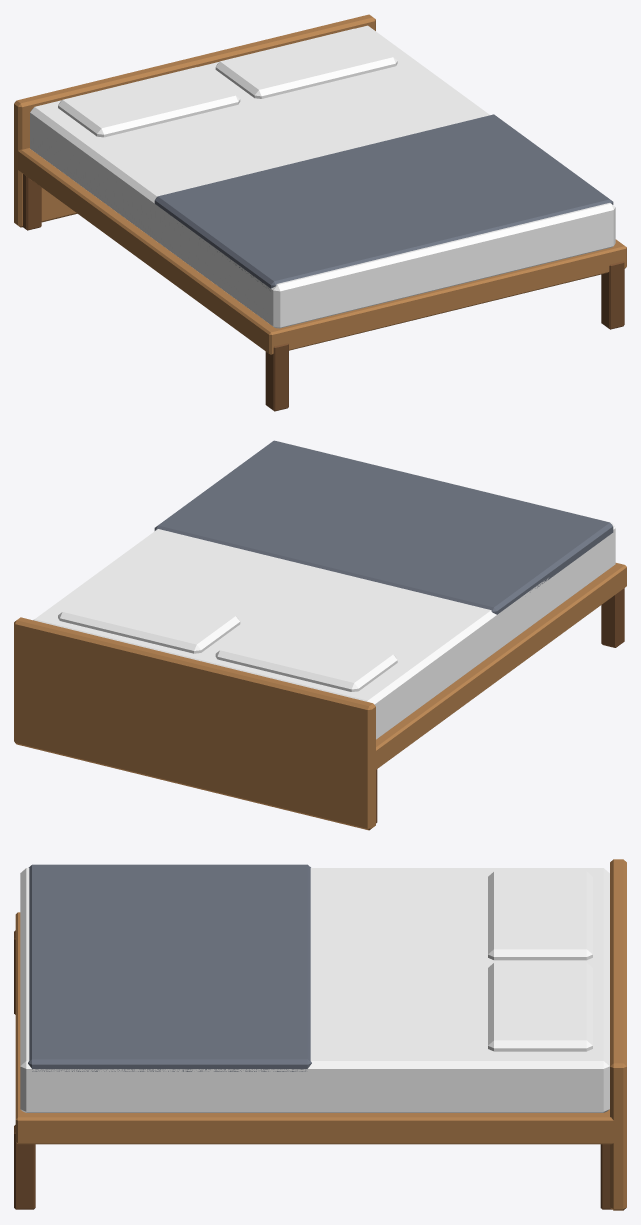
The model's file is bed-double-1600.glb.
3 views of the same model, one above another, from view 1: azimuth 30°, elevation 25°; view 2: azimuth 150°, elevation 25°; view 3: azimuth 270°, elevation 25° (orthographic). The views are drawn at different scales.
Visible parts, largest first — view 1: bed-double-1600.tint, bed-double-1600.fabric, bed-double-1600.wood, bed-double-1600.woodDark; view 2: bed-double-1600.wood, bed-double-1600.tint, bed-double-1600.fabric, bed-double-1600.woodDark; view 3: bed-double-1600.tint, bed-double-1600.fabric, bed-double-1600.wood, bed-double-1600.woodDark.
Part boxes in pixels (x1,y1,x2,y2): bed-double-1600.tint: [30, 25, 615, 328]; bed-double-1600.fabric: [154, 114, 613, 288]; bed-double-1600.wood: [14, 14, 626, 354]; bed-double-1600.woodDark: [22, 174, 624, 411]; bed-double-1600.wood: [14, 563, 626, 830]; bed-double-1600.tint: [33, 441, 615, 739]; bed-double-1600.fabric: [154, 440, 613, 614]; bed-double-1600.woodDark: [376, 588, 624, 823]; bed-double-1600.tint: [20, 868, 609, 1112]; bed-double-1600.fabric: [28, 864, 311, 1071]; bed-double-1600.wood: [15, 859, 626, 1210]; bed-double-1600.woodDark: [14, 930, 611, 1209].
Bounding box in the file's own units: 1.6 × 0.55 × 2.
